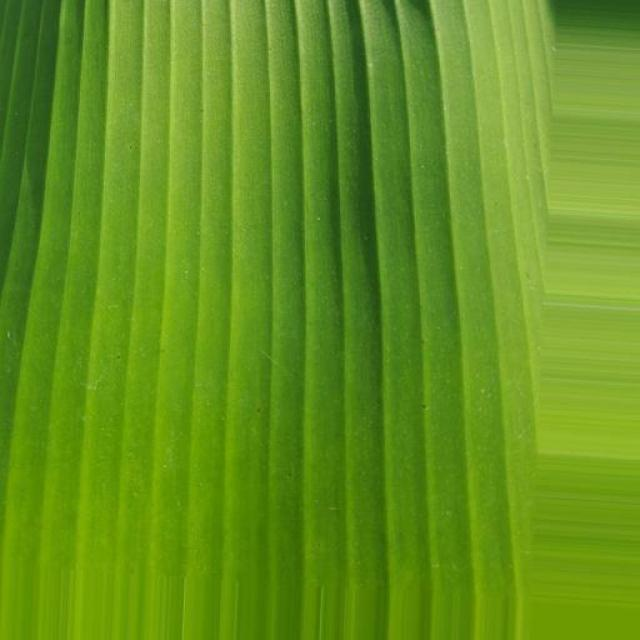Black_leaf_spot: (0, 0, 556, 628)
